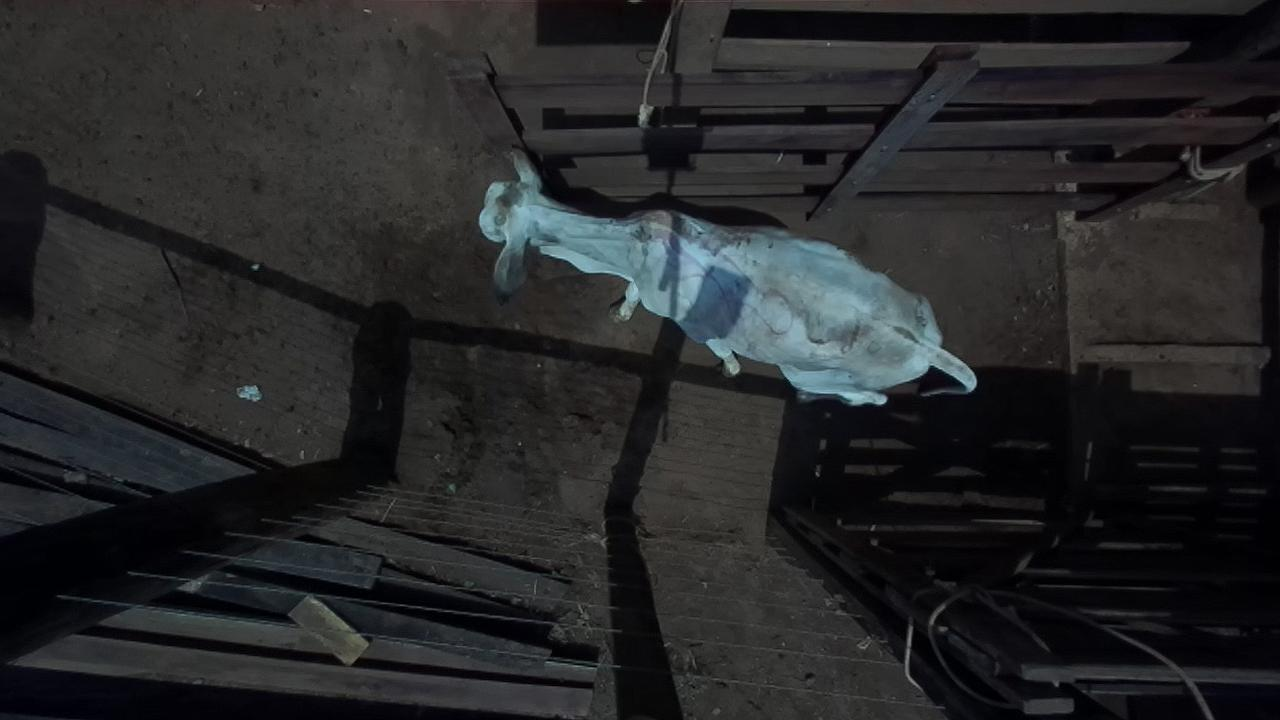cattle: (476, 145, 978, 408)
